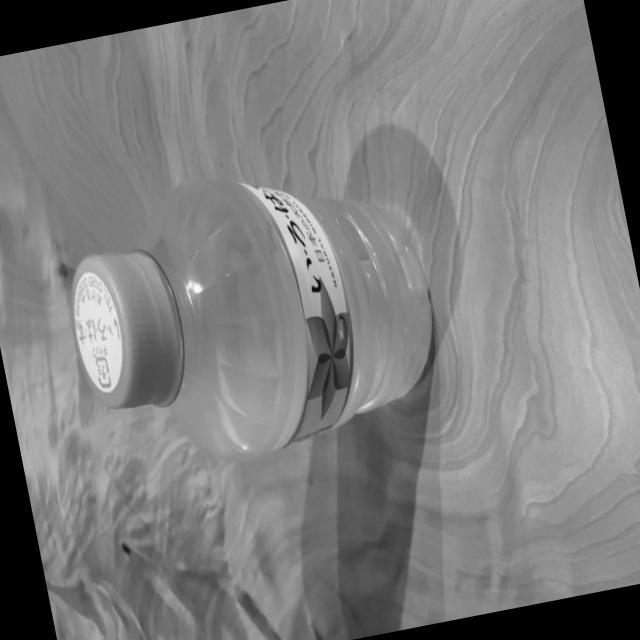good: (42, 137, 456, 496)
